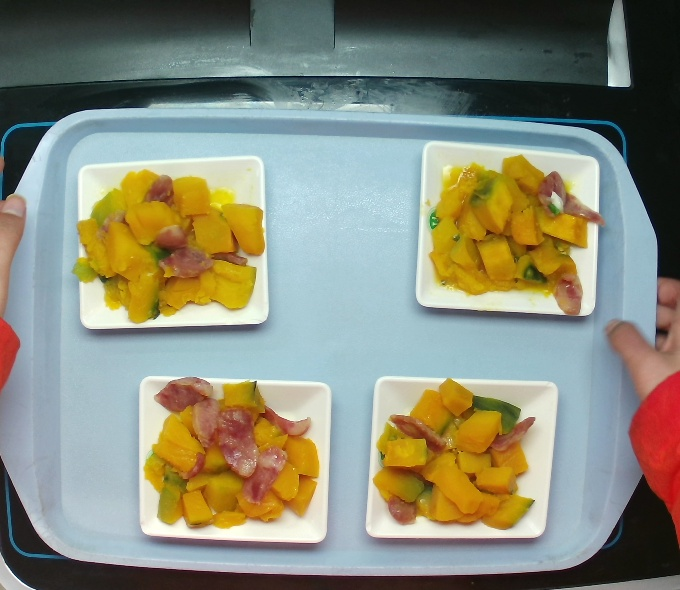wcq-NanGuaChaoXiangChang: (140, 368, 325, 541), (86, 161, 252, 337), (429, 154, 595, 318), (377, 376, 538, 537)
